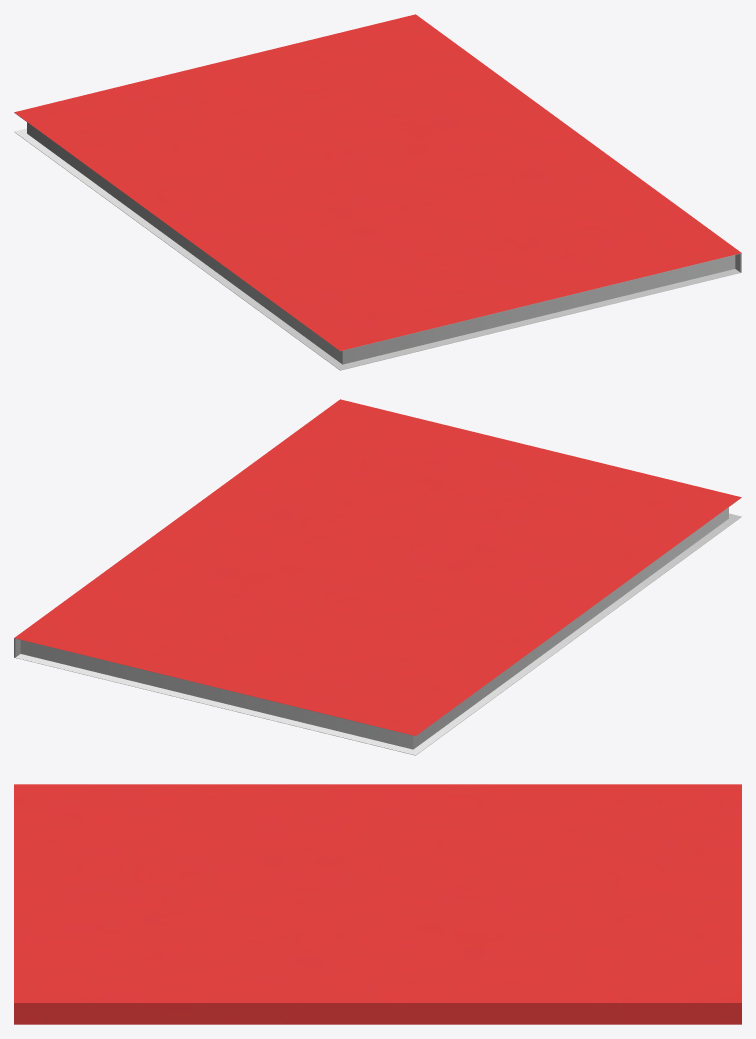
File: Book_4.fbx
3 renders of one model, top to bottom at view 1: azimuth 30°, elevation 25°; view 2: azimuth 150°, elevation 25°; view 3: azimuth 270°, elevation 25°, orthographic. The views are drawn at different scales.
Visible parts, largest first — view 1: Book 4; view 2: Book 4; view 3: Book 4.
Part boxes in pixels (box(x1,y1,x2,y2)): Book 4: box(14, 14, 741, 370); Book 4: box(14, 399, 741, 755); Book 4: box(14, 784, 741, 1024).
Bounding box in the file's own units: 21.61 × 1 × 30.4.
